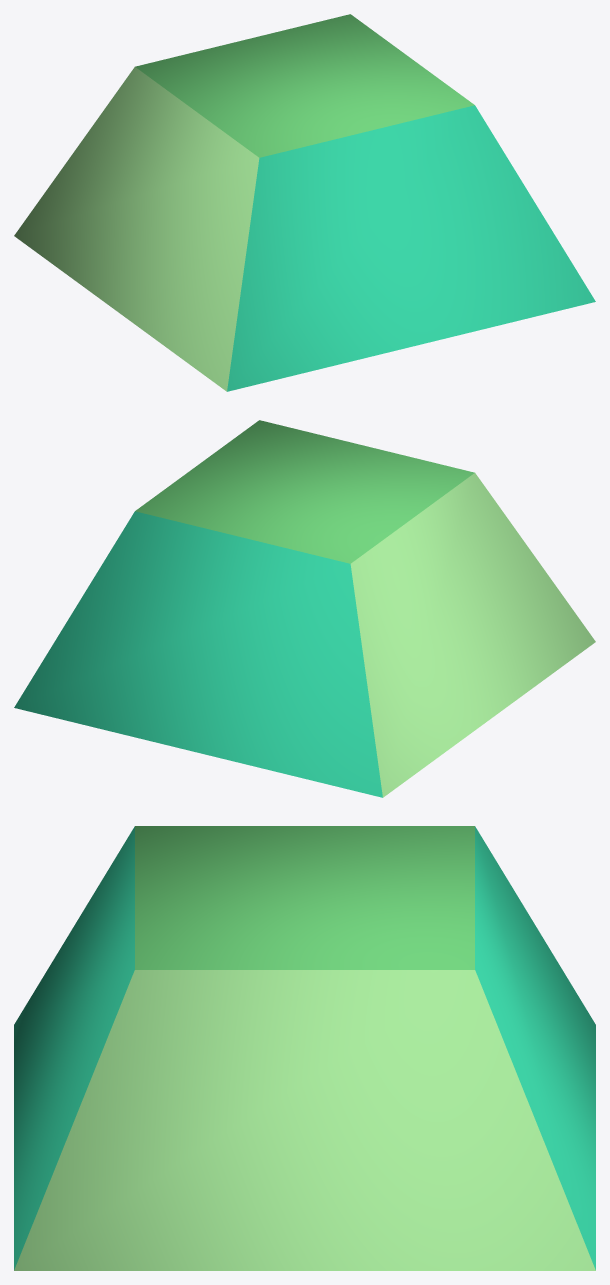
Rendered from block.fbx.
3 views of the same model, one above another, from view 1: azimuth 30°, elevation 25°; view 2: azimuth 150°, elevation 25°; view 3: azimuth 270°, elevation 25° (orthographic). The views are drawn at different scales.
Visible parts, largest first — view 1: Block; view 2: Block; view 3: Block.
Boxes of the visible parts, left/top/right/bottom form: Block: left=14, top=14, right=595, bottom=391; Block: left=14, top=420, right=595, bottom=797; Block: left=14, top=826, right=595, bottom=1270.
Bounding box in the file's own units: 0.8482 × 0.4019 × 0.8482.
